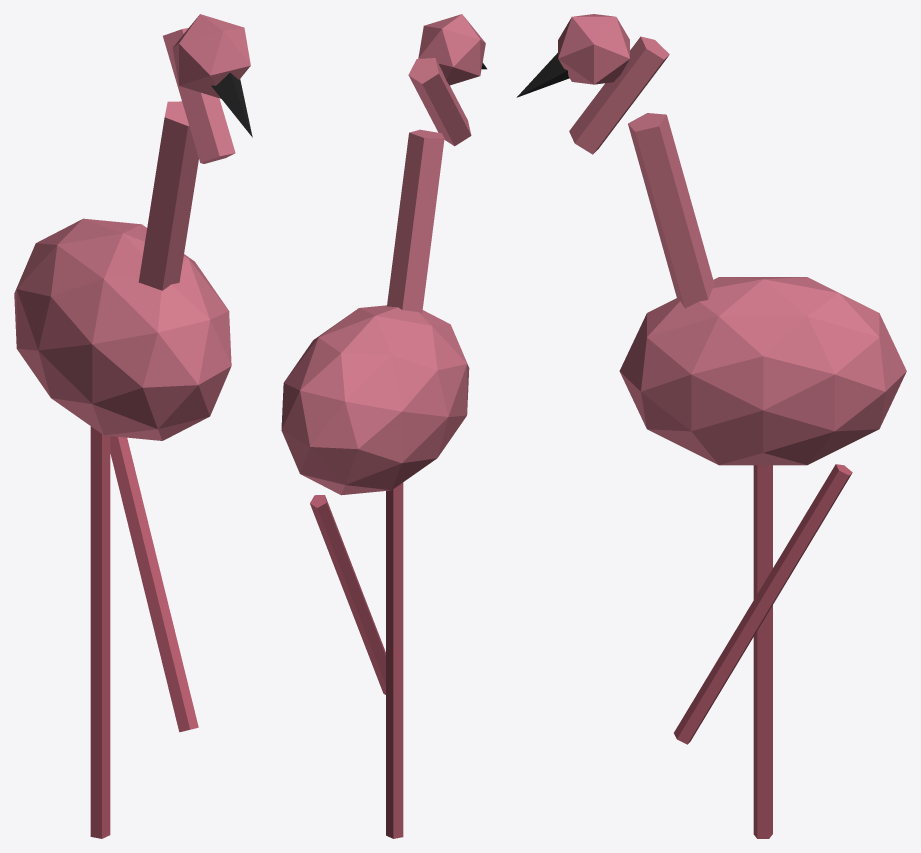
Rendered from flamingo.glb.
The picture shows the model from 3 angles, left to right: view 1: azimuth 30°, elevation 25°; view 2: azimuth 150°, elevation 25°; view 3: azimuth 270°, elevation 25°; orthographic projection. The views are drawn at different scales.
Parts seen in each view (by area): view 1: kbs_flamingo; view 2: kbs_flamingo; view 3: kbs_flamingo.
Boxes of the visible parts, x1=… form: kbs_flamingo: x1=14, y1=14, x2=252, y2=838; kbs_flamingo: x1=281, y1=14, x2=486, y2=838; kbs_flamingo: x1=516, y1=14, x2=906, y2=838.
Bounding box in the file's own units: 0.2439 × 1.2 × 0.5125.
